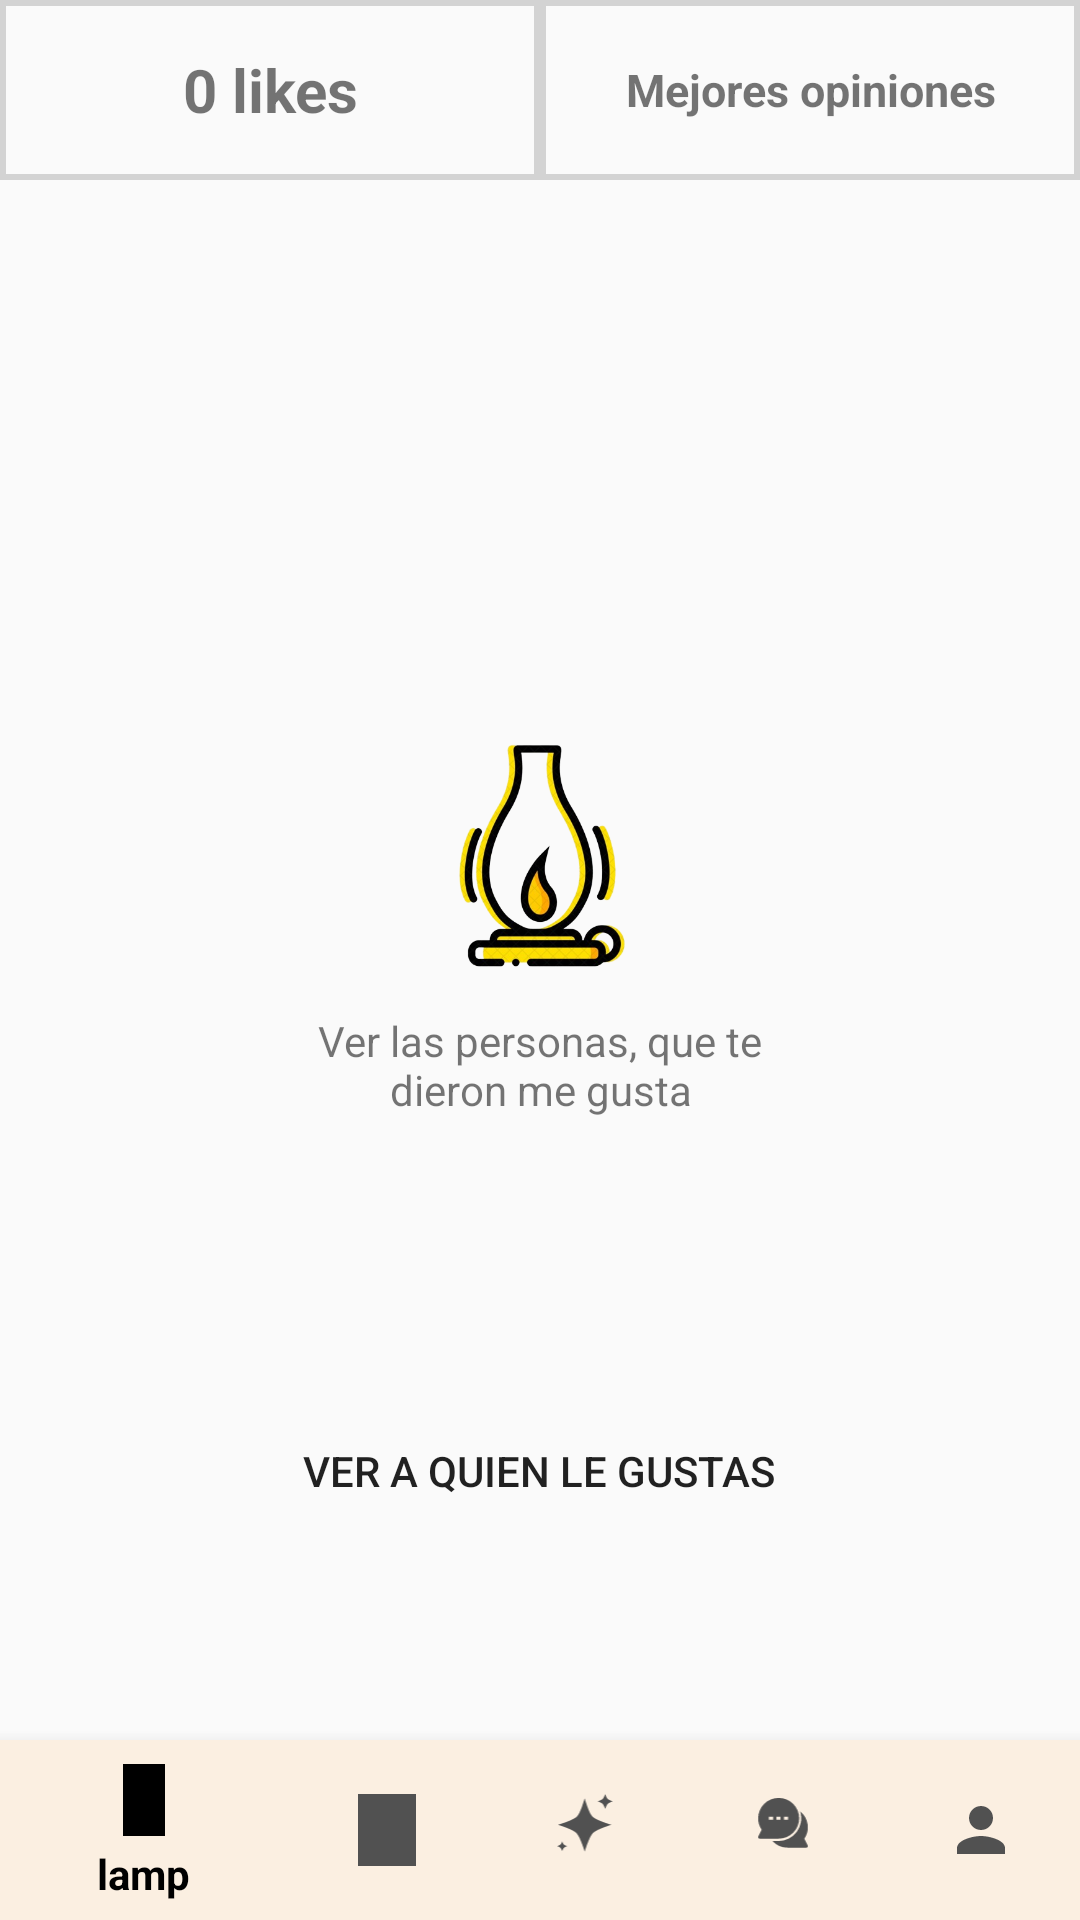

Named icons in this screenshot (1080 x 1920) and their bounding boxes, (x1, y1, x2, y2):
candle: (459, 745, 625, 967)
